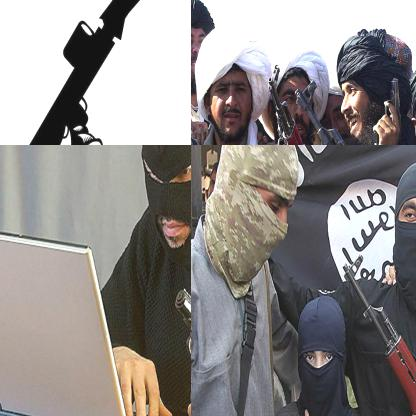pistol: (167, 286, 190, 387)
rifle: (0, 0, 190, 144), (338, 250, 415, 415), (287, 78, 415, 144)
